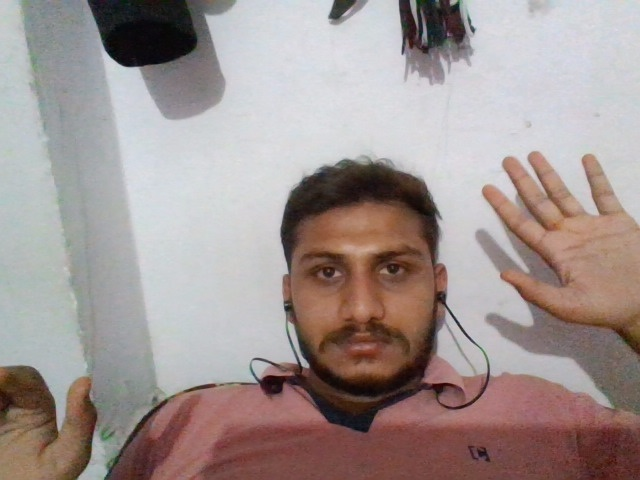Hello: (465, 138, 640, 345)
